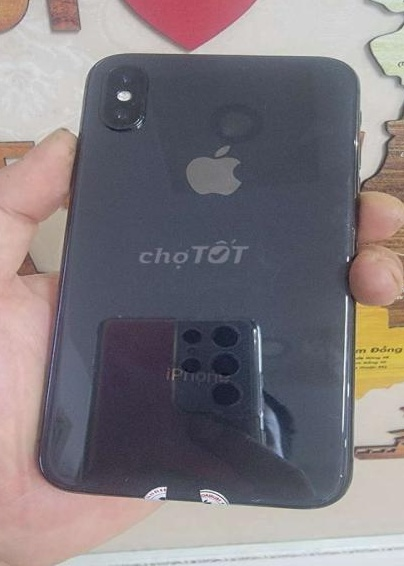scratch: (336, 211, 365, 250), (317, 465, 363, 487), (236, 489, 273, 508), (113, 469, 141, 492), (108, 306, 133, 325), (348, 127, 361, 153)
